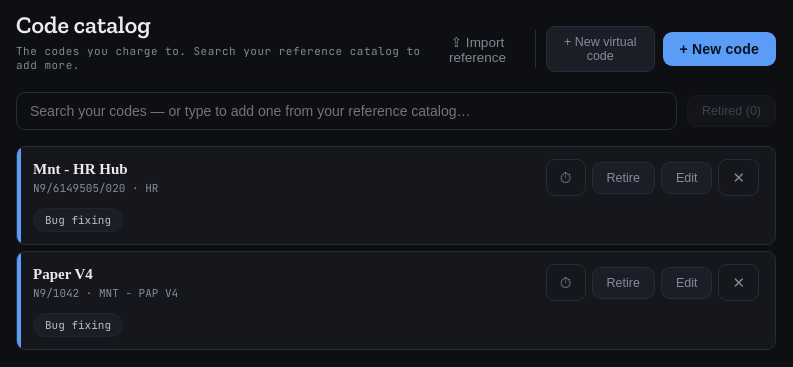
Test case: CodeCatalogScreen › fuzzy-filters the displayed list by the search query (BIZ-073)
Check: the text "Paper V4" is shown, box [33,266,93,282]
Check: the text "Mnt - HR Hub" is shown, box [33,160,128,176]
# "HRHUB" (no space) fuzzy-matches "HR Hub" and hides the non-matching code.
Replace the text in the field with placeholder "Search your codes" with "HRHUB". click: (346, 111)
box: [16,92,677,130]
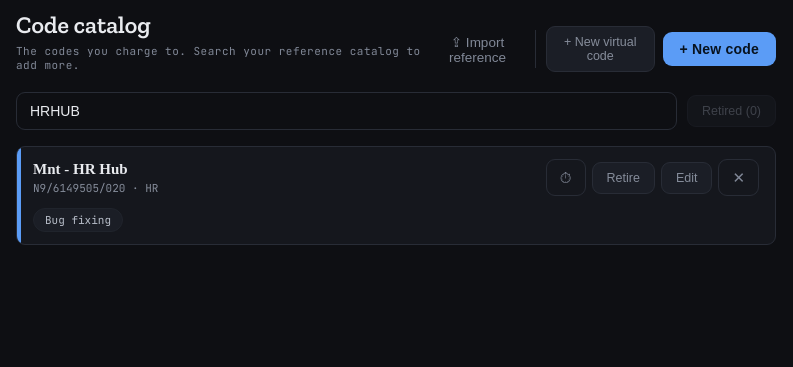
Check: the text "Mnt - HR Hub" is shown, box [33,160,128,176]
Check: the text "Paper V4" is gone
